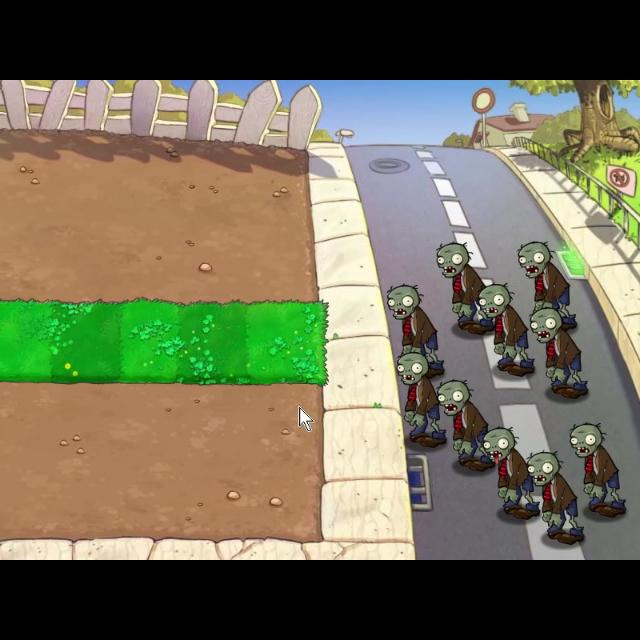Garden: (1, 294, 333, 392)
Zombie: (479, 424, 545, 522), (432, 238, 498, 336), (525, 444, 587, 548), (568, 421, 632, 521), (385, 284, 449, 380), (516, 238, 578, 330), (530, 304, 590, 398), (440, 381, 500, 474), (478, 282, 536, 378), (394, 354, 446, 448)
